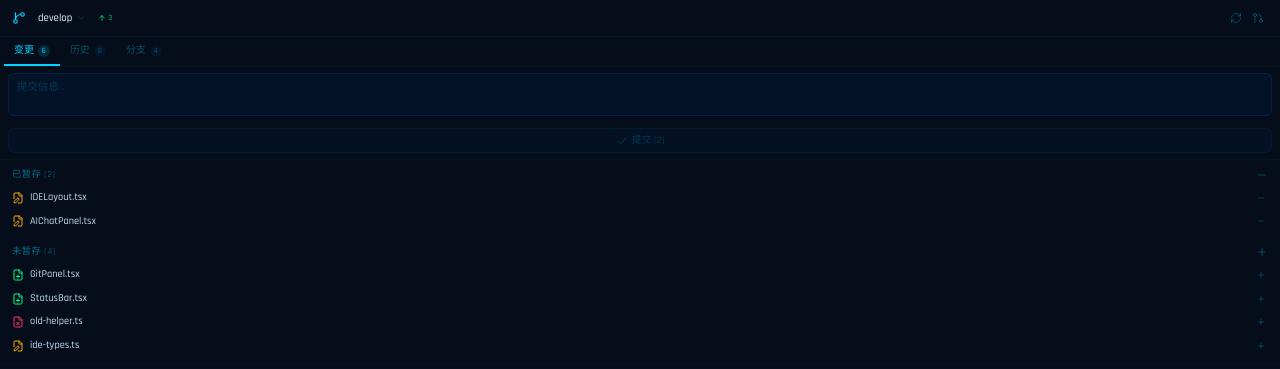
it: GitPanel › 提交: 空信息/无暂存禁用 → 有效提交移除 staged
The width and height of the screenshot is (1280, 369).
Expected: the button "提交 (2)" is disabled, x1=8 y1=128 x2=1272 y2=153
Type "feat: batch4" into the text box with placeholder "提交信息..." at coordinates (640, 95), box x1=8 y1=73 x2=1272 y2=116
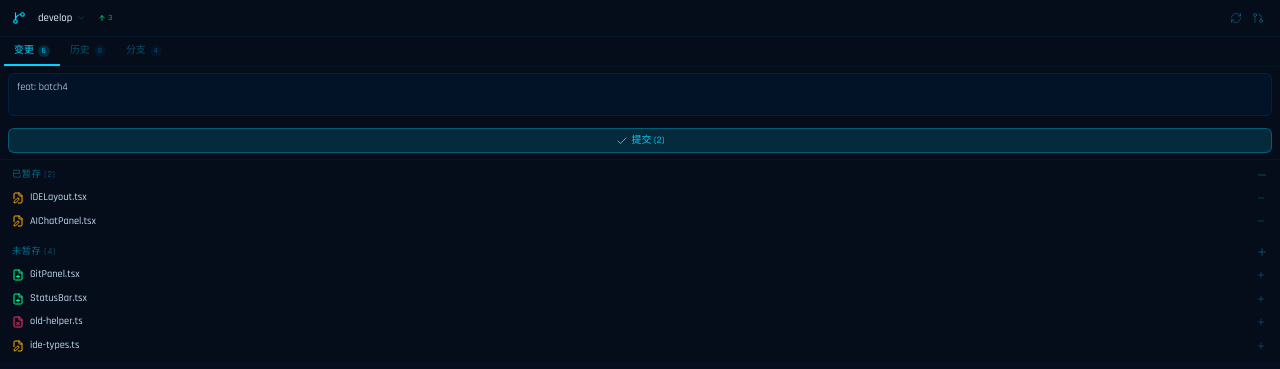
Expected: the button "提交 (2)" is enabled
Click the button "提交 (2)" at coordinates (640, 141), box x1=8 y1=128 x2=1272 y2=153
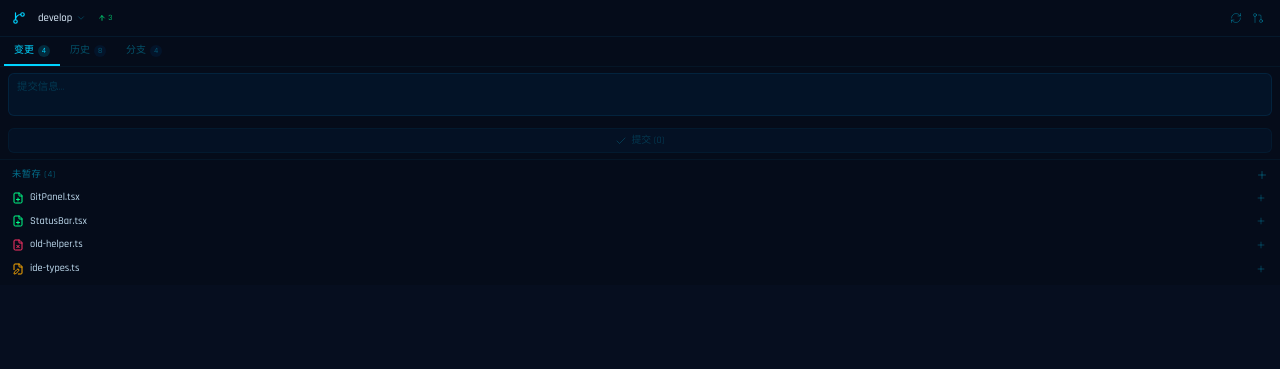
Expected: the text "已暂存 (2)" is gone
Expected: the text box with placeholder "提交信息..." is empty, x1=8 y1=73 x2=1272 y2=116
